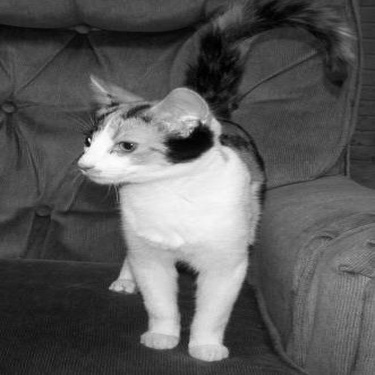cat: (71, 2, 369, 372)
